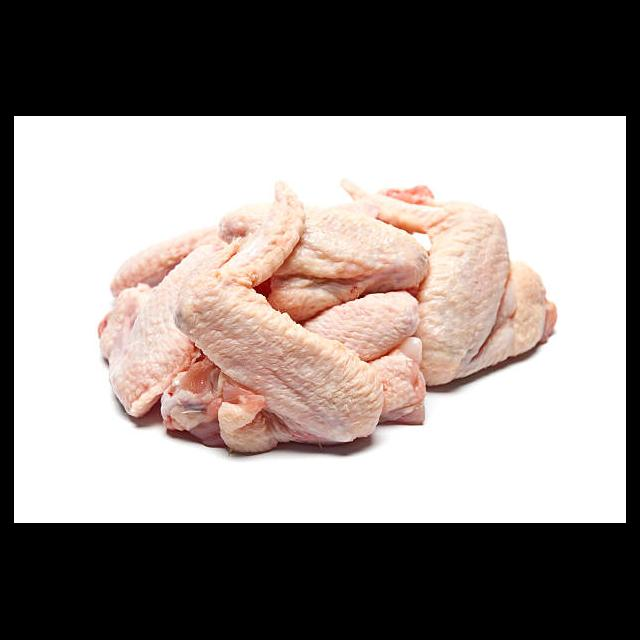chicken: (174, 168, 383, 452), (343, 174, 557, 383), (95, 232, 236, 420), (261, 192, 433, 326)
